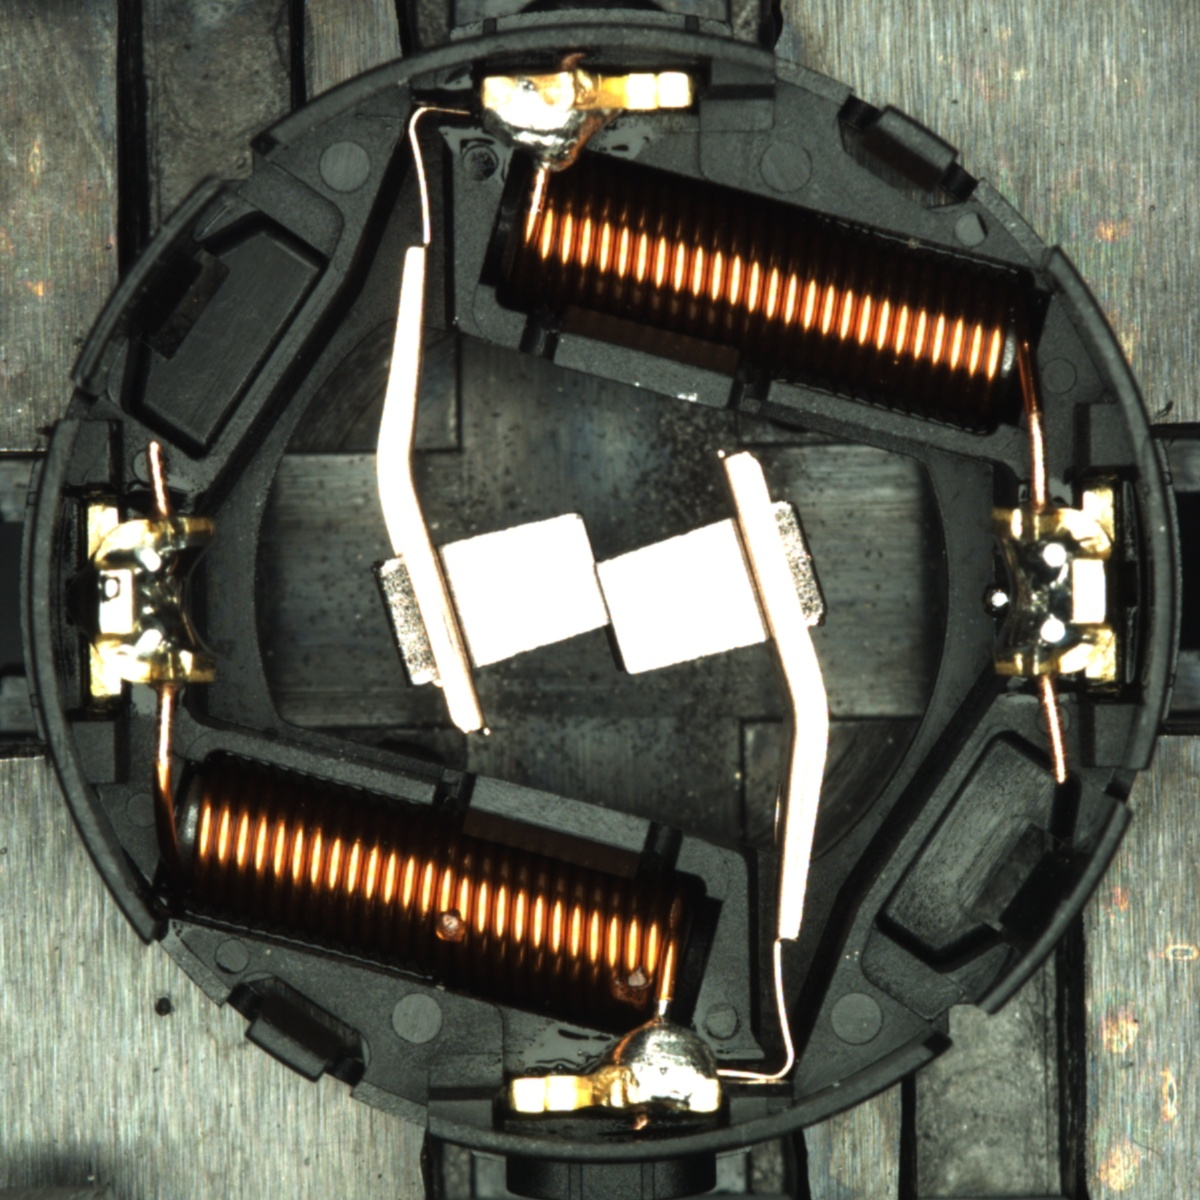1: (713, 930, 943, 1154), (255, 32, 484, 256)
2: (713, 32, 943, 256), (255, 930, 484, 1154)
3: (25, 256, 255, 481), (943, 705, 1171, 930)
4: (255, 256, 484, 481), (713, 705, 943, 930)
5: (484, 144, 713, 368), (484, 818, 713, 1042)
6: (713, 256, 943, 481), (255, 705, 484, 930)
7: (943, 256, 1171, 481), (25, 705, 255, 930)
bui_chi: (982, 584, 1013, 615)
cacbon: (399, 501, 798, 686)
chau_dien: (81, 499, 221, 700), (985, 488, 1123, 687)
hat_chi: (982, 585, 1013, 616)
tay_choi: (480, 70, 695, 174), (509, 1016, 722, 1115)
thanh_de: (953, 786, 1141, 1031), (59, 165, 244, 404)
